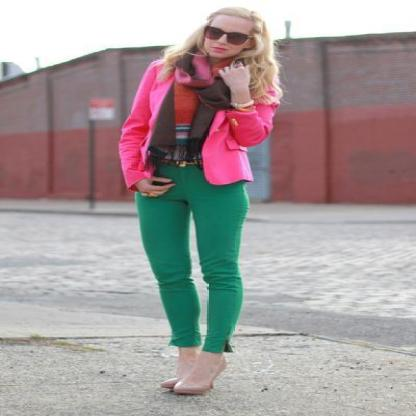jacket: (118, 66, 274, 186)
pants: (136, 164, 249, 352)
shoe: (147, 382, 215, 403)
sunglass: (212, 27, 257, 44)
